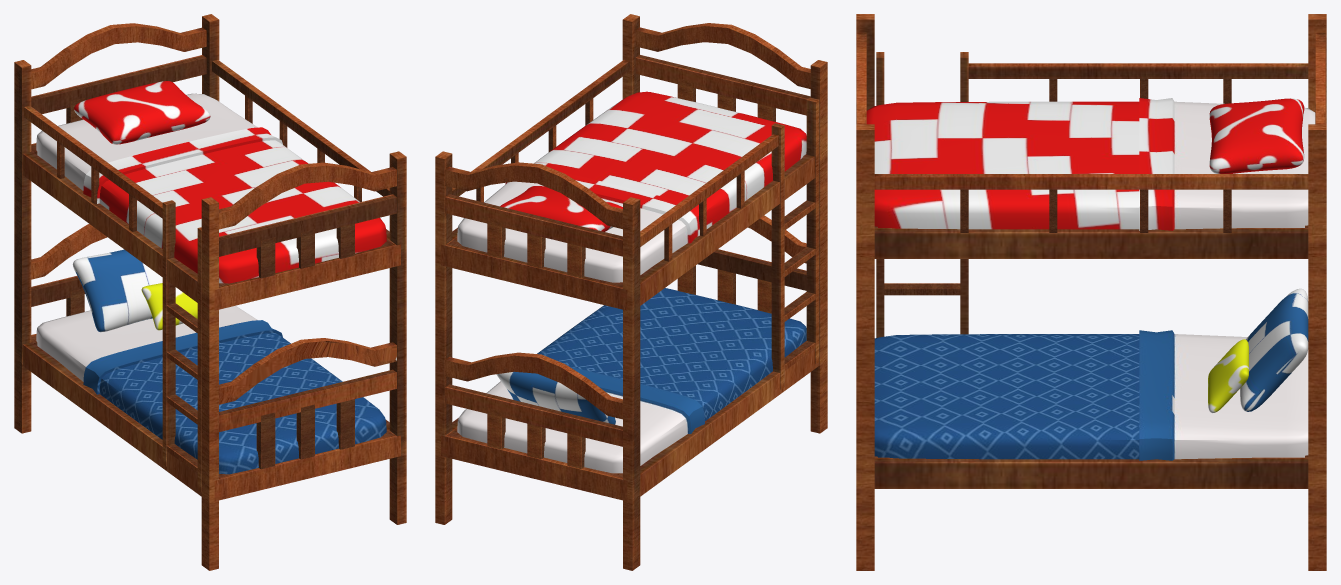
3 views of the same model, side by side, from view 1: azimuth 30°, elevation 25°; view 2: azimuth 150°, elevation 25°; view 3: azimuth 270°, elevation 25° (orthographic). The views are drawn at different scales.
Parts seen in each view (by area): view 1: low4, low2, low5, low3, low1; view 2: low4, low2, low5, low3, low1; view 3: low4, low5, low2, low1.
Boxes of the visible parts, x1,y1,x2,y2 form: low4: (24,60,389,474); low2: (22,23,396,496); low5: (14,14,406,570); low3: (31,143,400,501); low1: (66,90,354,492); low4: (452,60,806,473); low2: (445,23,819,496); low5: (435,14,827,570); low3: (441,152,815,501); low1: (487,78,819,468); low4: (866,63,1315,460); low5: (856,14,1326,570); low2: (856,32,1325,488); low1: (856,52,1315,337).
Bounding box in the file's own units: 5.21 × 9.59 × 8.93.
1 material, 1 textured.
